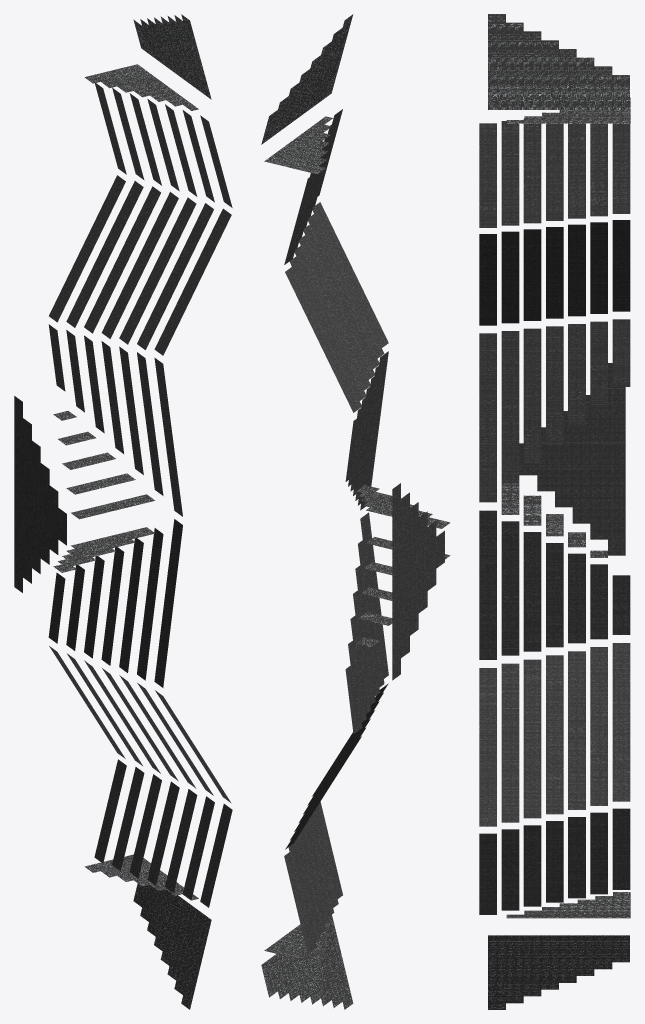
Rendered from Screen 1.fbx.
3 views of the same model, side by side, from view 1: azimuth 30°, elevation 25°; view 2: azimuth 150°, elevation 25°; view 3: azimuth 270°, elevation 25° (orthographic).
Parts seen in each view (by area): view 1: ID405__1_, ID251739, ID141266, ID137651, ID148520, ID183658, ID156166, ID153597, ID185911, ID151028, ID181089, ID67708 (+38 smaller); view 2: ID405__1_, ID251739, ID141266, ID137651, ID185911, ID156166, ID148520, ID151028, ID153597, ID181089, ID183658, ID258600 (+21 smaller); view 3: ID405__1_, ID141266, ID251739, ID23343, ID235320, ID207828, ID237573, ID52402, ID232751, ID200182, ID205259, ID202690 (+38 smaller).
Part boxes in pixels (x1,y1,x2,y2): ID405__1_: [14, 396, 66, 592]; ID251739: [133, 883, 211, 1009]; ID141266: [133, 14, 211, 99]; ID137651: [84, 64, 198, 110]; ID148520: [154, 208, 231, 355]; ID183658: [137, 203, 213, 349]; ID156166: [119, 197, 196, 344]; ID153597: [66, 181, 143, 327]; ID185911: [49, 175, 125, 322]; ID151028: [84, 186, 160, 333]; ID181089: [101, 192, 178, 338]; ID67708: [154, 519, 182, 687]; ID405__1_: [392, 483, 444, 680]; ID251739: [261, 915, 353, 1009]; ID141266: [261, 14, 353, 144]; ID137651: [264, 116, 332, 174]; ID185911: [285, 265, 361, 412]; ID156166: [303, 223, 379, 368]; ID148520: [312, 202, 388, 347]; ID151028: [294, 244, 370, 390]; ID153597: [289, 255, 366, 400]; ID181089: [299, 234, 375, 379]; ID183658: [308, 213, 384, 358]; ID258600: [264, 915, 331, 963]; ID405__1_: [519, 363, 625, 555]; ID141266: [488, 14, 629, 109]; ID251739: [488, 935, 629, 1009]; ID23343: [479, 333, 496, 502]; ID235320: [501, 663, 519, 822]; ID207828: [523, 659, 541, 818]; ID237573: [612, 643, 630, 801]; ID52402: [501, 331, 519, 483]; ID232751: [546, 655, 563, 814]; ID200182: [479, 668, 496, 826]; ID205259: [590, 647, 607, 805]; ID202690: [568, 651, 585, 809].
Size of the model in its own units: 41341 by 268566 by 37002.
